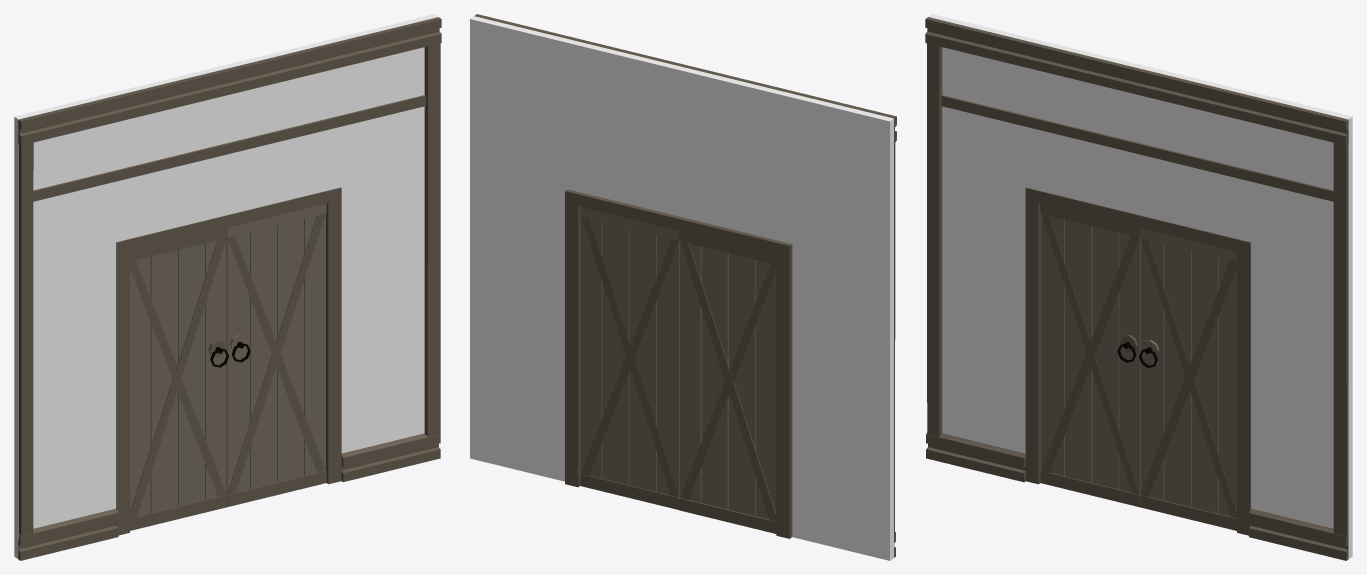
The model's file is DOOR_03_1.glb.
The picture shows the model from 3 angles, left to right: view 1: azimuth 30°, elevation 25°; view 2: azimuth 150°, elevation 25°; view 3: azimuth 330°, elevation 25°; orthographic projection.
Parts seen in each view (by area): view 1: DOOR_03_1; view 2: DOOR_03_1; view 3: DOOR_03_1.
Boxes of the visible parts, x1=… form: DOOR_03_1: x1=14, y1=14, x2=441, y2=560; DOOR_03_1: x1=470, y1=14, x2=896, y2=560; DOOR_03_1: x1=925, y1=14, x2=1352, y2=560.
Bounding box in the file's own units: 3 × 3 × 0.117.
Materials: 1 (1 with a texture image).
